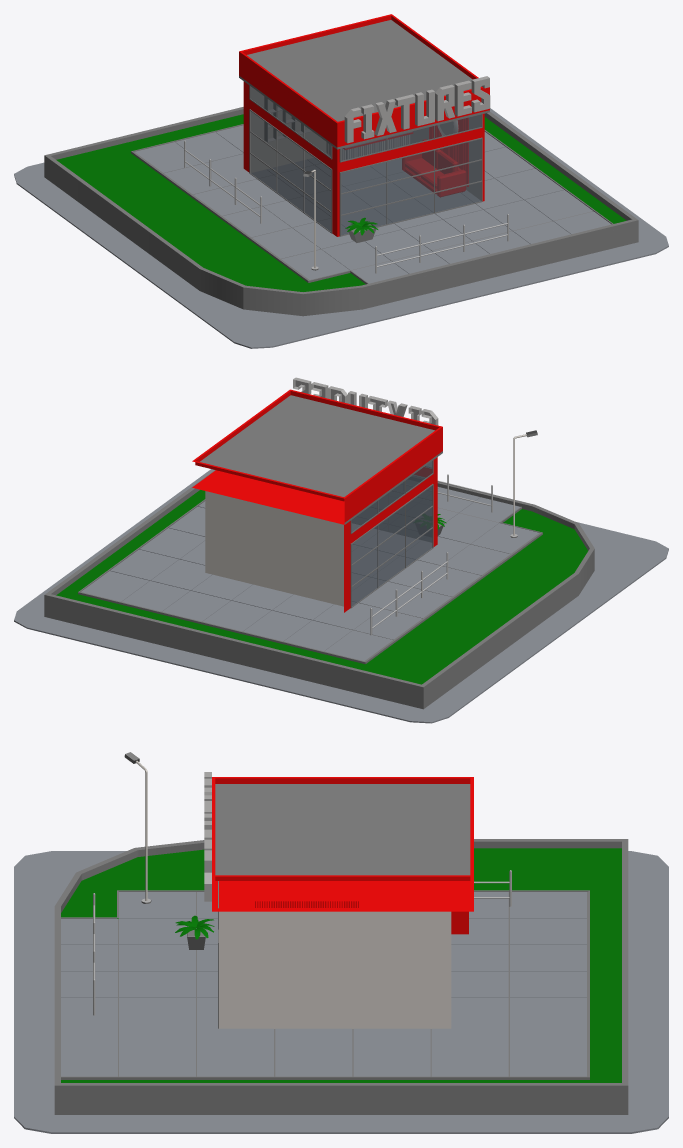
File: fixtures_building_grp.glb
3 views of the same model, one above another, from view 1: azimuth 30°, elevation 25°; view 2: azimuth 150°, elevation 25°; view 3: azimuth 270°, elevation 25° (orthographic). The views are drawn at different scales.
Parts seen in each view (by area): view 1: fixtures_build, roadshow_grass.001, roadshow_tiles.001, fixtures_ground1, roadshow_tiles1, fixtures_text, event_tiles_border.001, fixtures_sofa, Reception_table, Bg_Stripes, fixture_line_que, fixture_line_que1 (+1 smaller); view 2: fixtures_build, roadshow_grass.001, roadshow_tiles.001, fixtures_ground1, event_tiles_border.001, fixtures_text, roadshow_tiles1, fixture_line_que1; view 3: fixtures_build, roadshow_tiles.001, roadshow_grass.001, fixtures_ground1, roadshow_tiles1, event_tiles_border.001, fixtures_text, fixture_flower_pot, fixtures_lamp, Bg_Stripes.
Part boxes in pixels (x1,y1,x2,y2): fixtures_build: (239, 14, 489, 236); roadshow_grass.001: (44, 107, 638, 316); roadshow_tiles.001: (135, 125, 592, 279); fixtures_ground1: (14, 108, 668, 348); roadshow_tiles1: (351, 211, 611, 283); fixtures_text: (344, 76, 490, 143); event_tiles_border.001: (131, 124, 613, 284); fixtures_sofa: (402, 139, 465, 197); Reception_table: (327, 131, 412, 160); Bg_Stripes: (429, 117, 468, 186); fixture_line_que: (375, 214, 508, 273); fixture_line_que1: (184, 140, 261, 223); fixtures_build: (192, 389, 442, 612); roadshow_grass.001: (44, 470, 594, 709); roadshow_tiles.001: (81, 501, 539, 660); fixtures_ground1: (14, 469, 668, 723); event_tiles_border.001: (78, 499, 542, 664); fixtures_text: (293, 377, 438, 425); roadshow_tiles1: (437, 487, 519, 522); fixture_line_que1: (370, 552, 448, 635); fixtures_build: (212, 777, 473, 1028); roadshow_tiles.001: (119, 892, 586, 1076); roadshow_grass.001: (54, 839, 628, 1114); fixtures_ground1: (14, 851, 668, 1133); roadshow_tiles1: (61, 918, 117, 1076); event_tiles_border.001: (61, 890, 589, 1079); fixtures_text: (204, 772, 211, 901); fixture_flower_pot: (175, 915, 214, 949); fixtures_lamp: (124, 752, 151, 903); Bg_Stripes: (255, 901, 358, 907).
Size of what is drawn, in the model's own units: 4.39 by 1.43 by 4.32.
